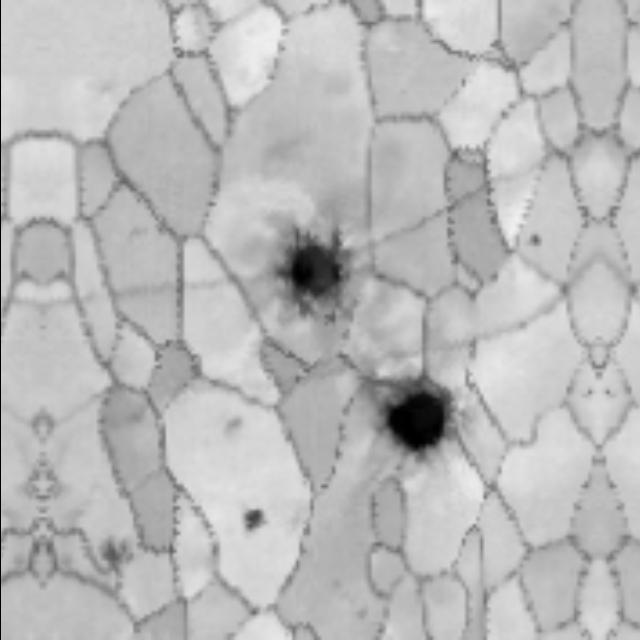good_void: (269, 211, 350, 317), (368, 382, 449, 457), (88, 535, 136, 598), (231, 504, 270, 551), (215, 414, 247, 444), (523, 224, 547, 250)
